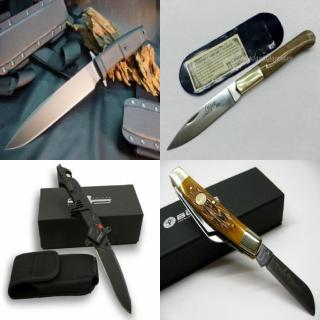knife: (1, 62, 99, 150), (163, 80, 243, 152), (252, 239, 318, 317), (92, 230, 134, 316)
